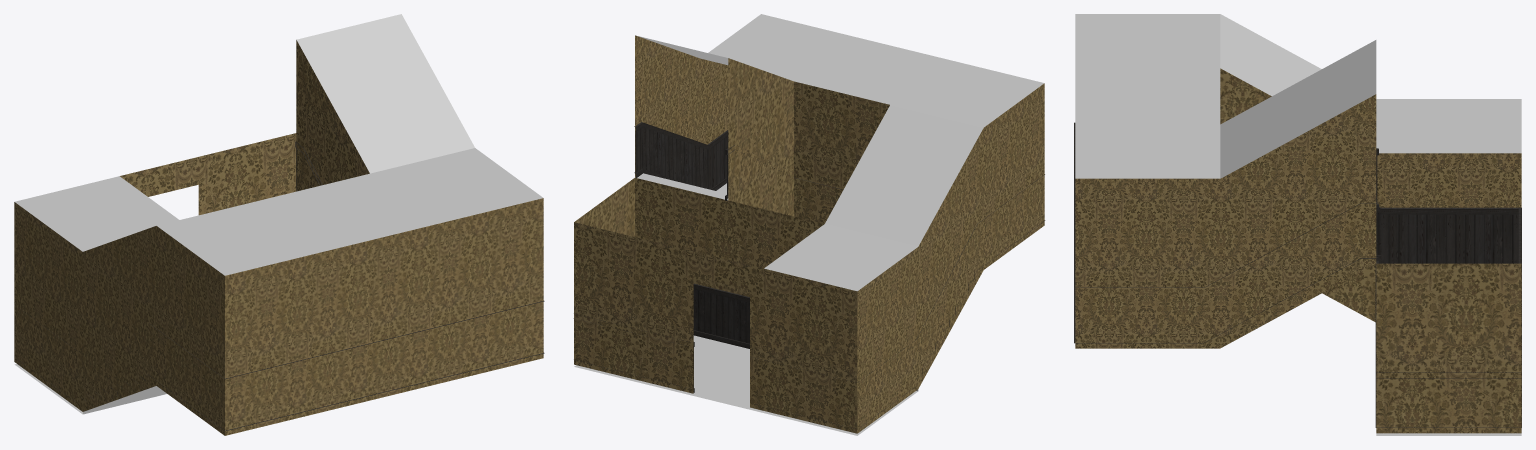
The model's file is Lobby_StairsBottom.fbx.
3 renders of one model, left to right at view 1: azimuth 30°, elevation 25°; view 2: azimuth 150°, elevation 25°; view 3: azimuth 270°, elevation 25°, orthographic. The views are drawn at different scales.
Parts seen in each view (by area): view 1: Cube_004_NonePlan_016; view 2: Cube_004_NonePlan_016; view 3: Cube_004_NonePlan_016.
Boxes of the visible parts, bbox=[...] form: Cube_004_NonePlan_016: bbox=[14, 14, 544, 435]; Cube_004_NonePlan_016: bbox=[573, 14, 1045, 435]; Cube_004_NonePlan_016: bbox=[1074, 14, 1521, 435].
Size of the model in its own units: 25.1 by 24.19 by 28.7.
